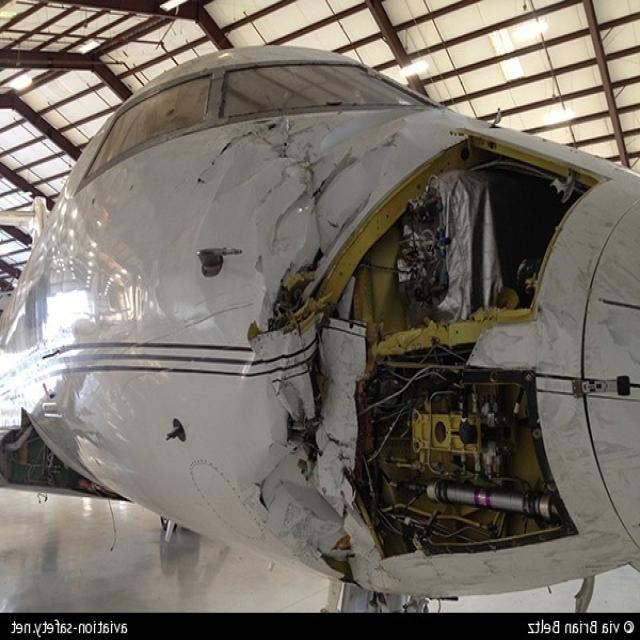crack: (199, 128, 265, 184), (256, 452, 293, 515)
